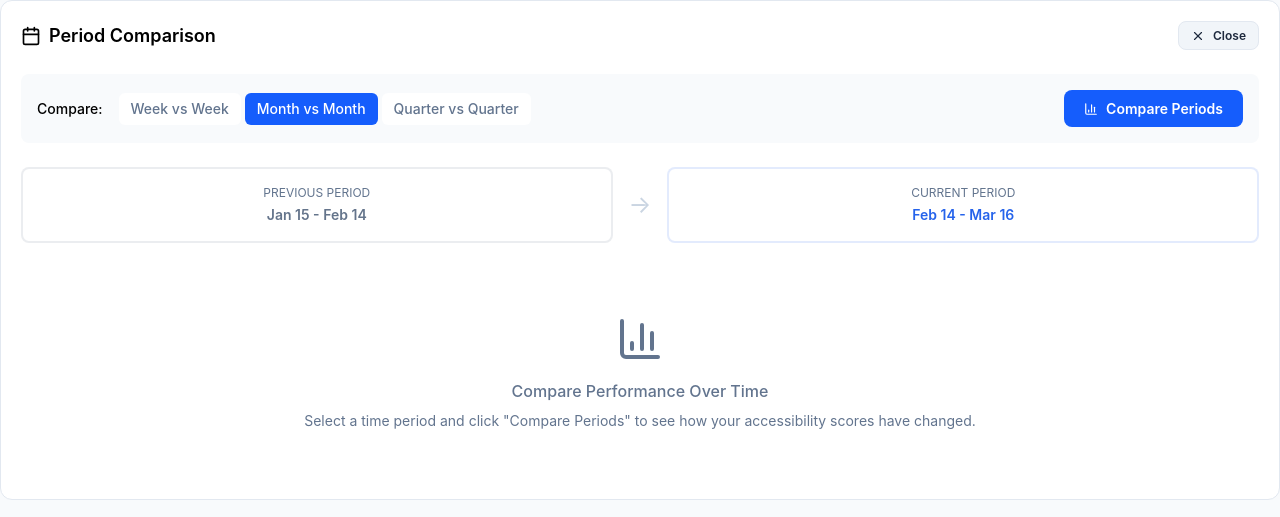
Scenario: reports/PeriodComparison › shows error when response not ok
Click the button "Compare Periods". click: [1154, 108]
box: [1064,90,1243,127]
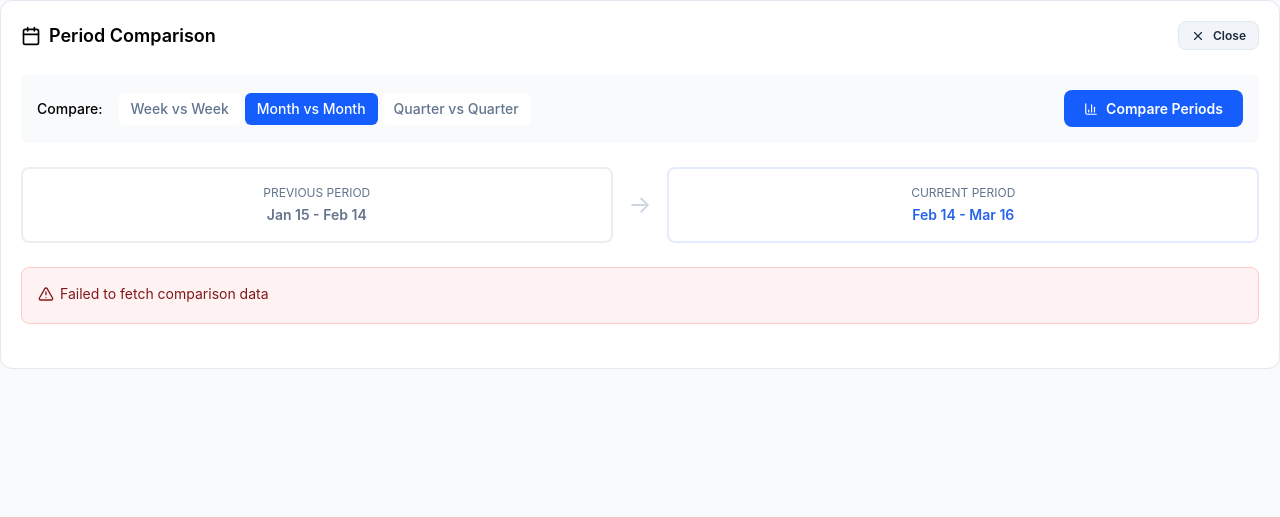
Now the text "Failed to fetch comparison data" is shown, box [38,284,269,304]
